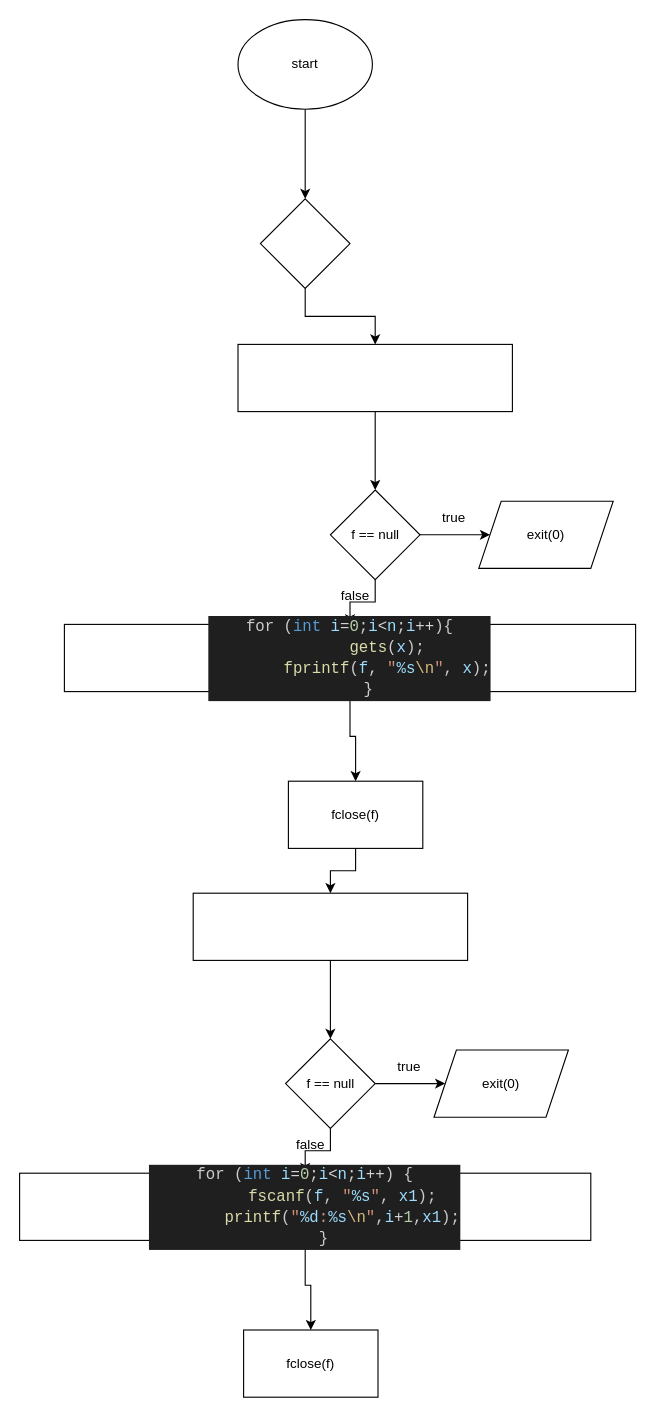
This 655x1417 diagram has some shape labels left out. Here are the shapes that lost their labels. From the top down, the centre of each, then its label:
pixel 304 243: input n
pixel 374 377: f = fopen ( "bt03.txt" , "w" );
pixel 330 926: f = fopen ( "bt01.txt" , "r" );
